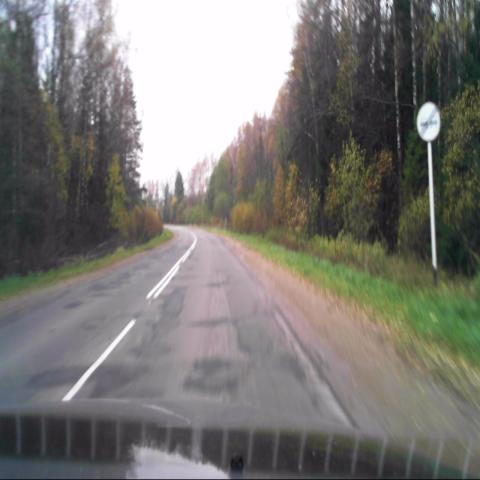3_21: (416, 100, 442, 142)
